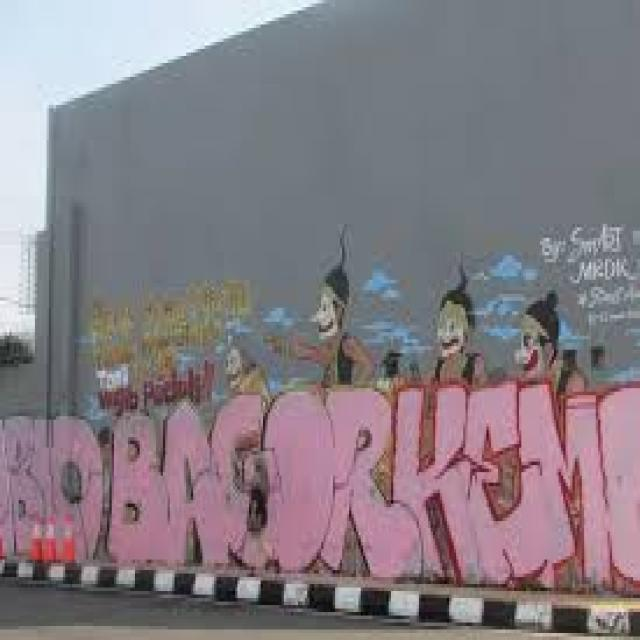-: (0, 381, 640, 581), (265, 224, 586, 390), (92, 276, 261, 407), (541, 223, 640, 329)
